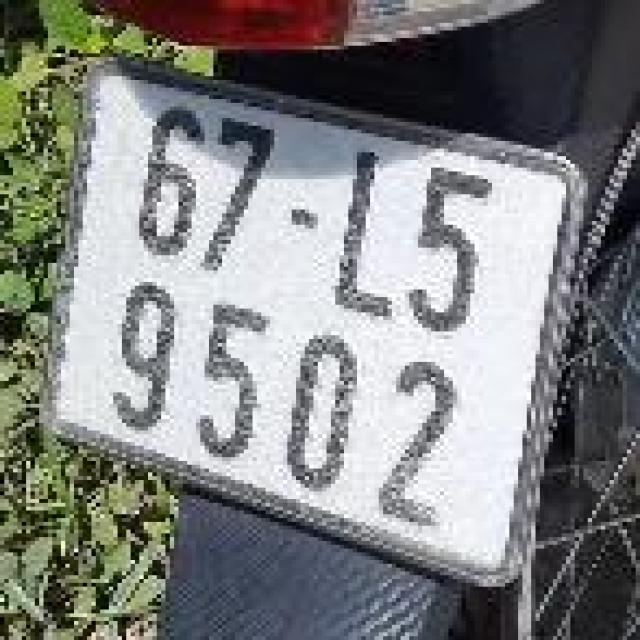0: (276, 323, 369, 506)
2: (363, 346, 479, 537)
5: (405, 156, 510, 348), (183, 292, 284, 472)
6: (129, 100, 218, 268)
7: (193, 107, 289, 283)
9: (98, 268, 189, 441)
L: (330, 140, 413, 330)
